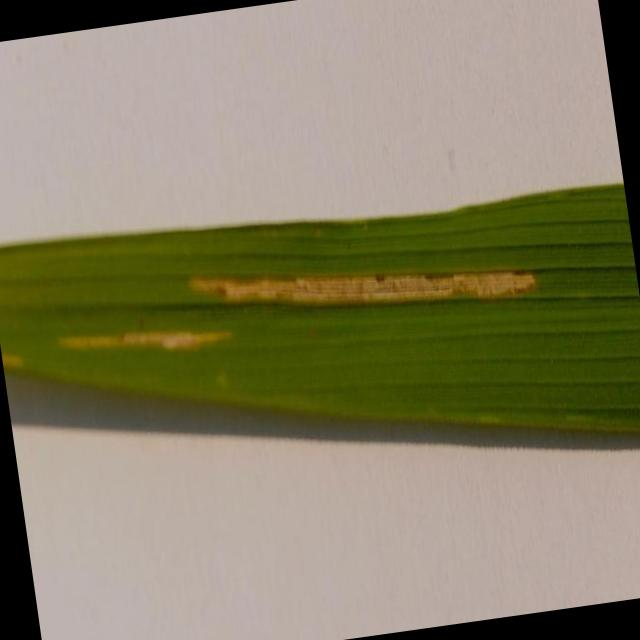Rice_Bacterial_Blight: (180, 208, 558, 376), (48, 282, 266, 417)
